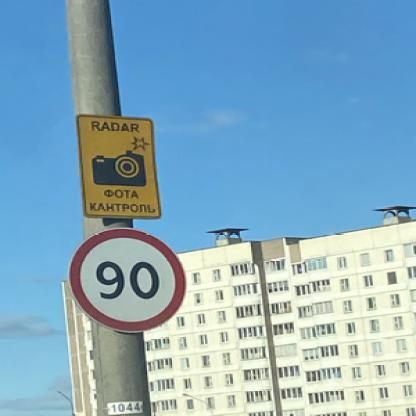speedlimit: (66, 228, 184, 330)
